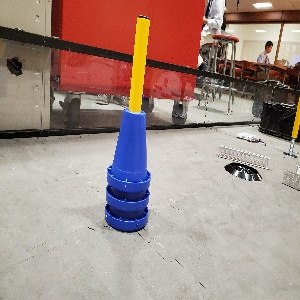Blue_3: (105, 106, 151, 231)
